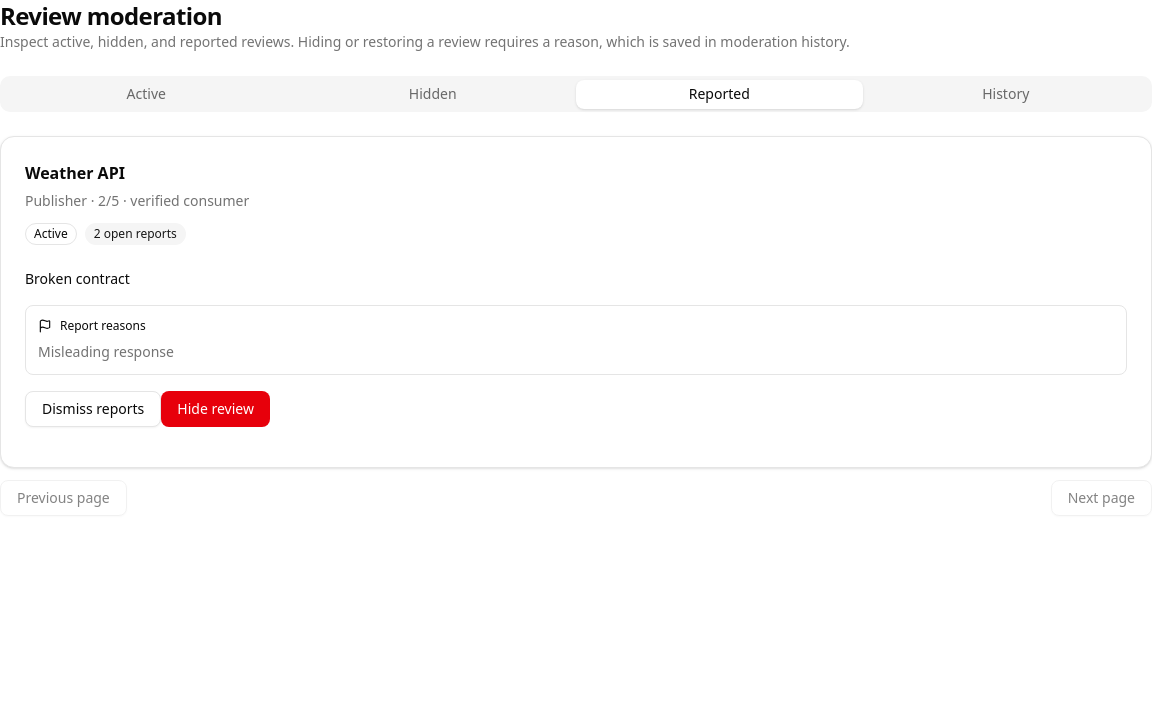
Test: actual moderation route surface › associates and focuses inline moderation failure
Click the button "Hide review" at (216, 409), box [161,391,270,427]
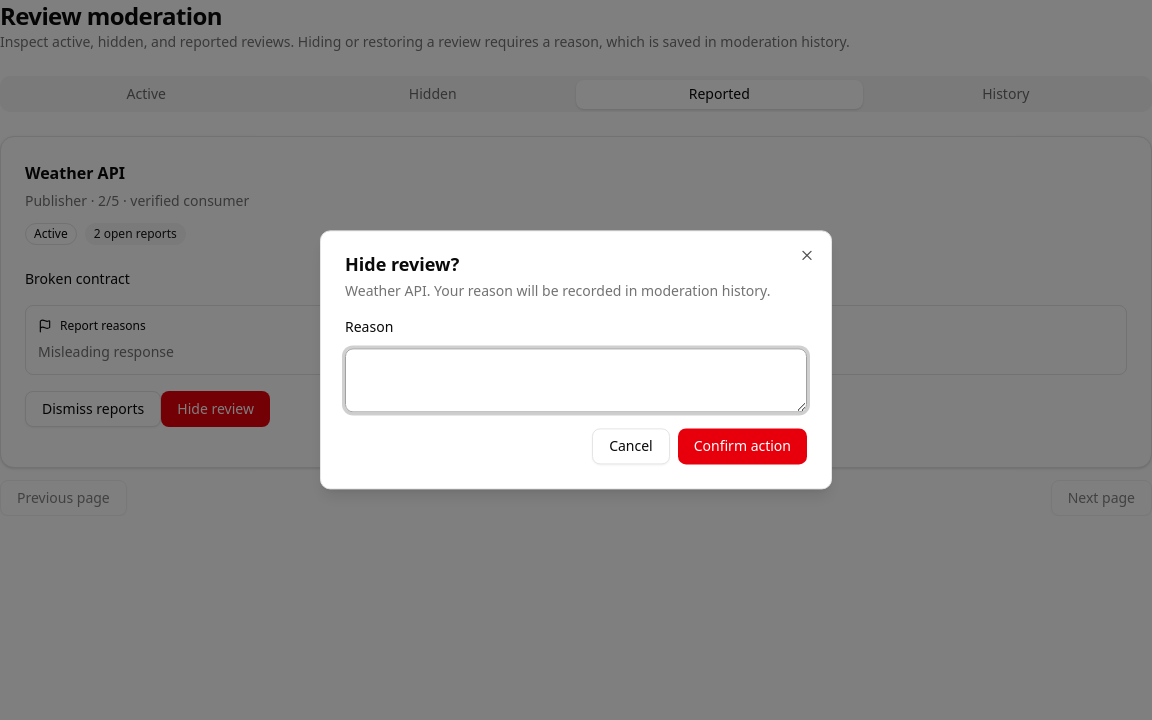
Type "Policy violation" into the text box labelled "Reason" at (576, 381), box [345,349,807,413]
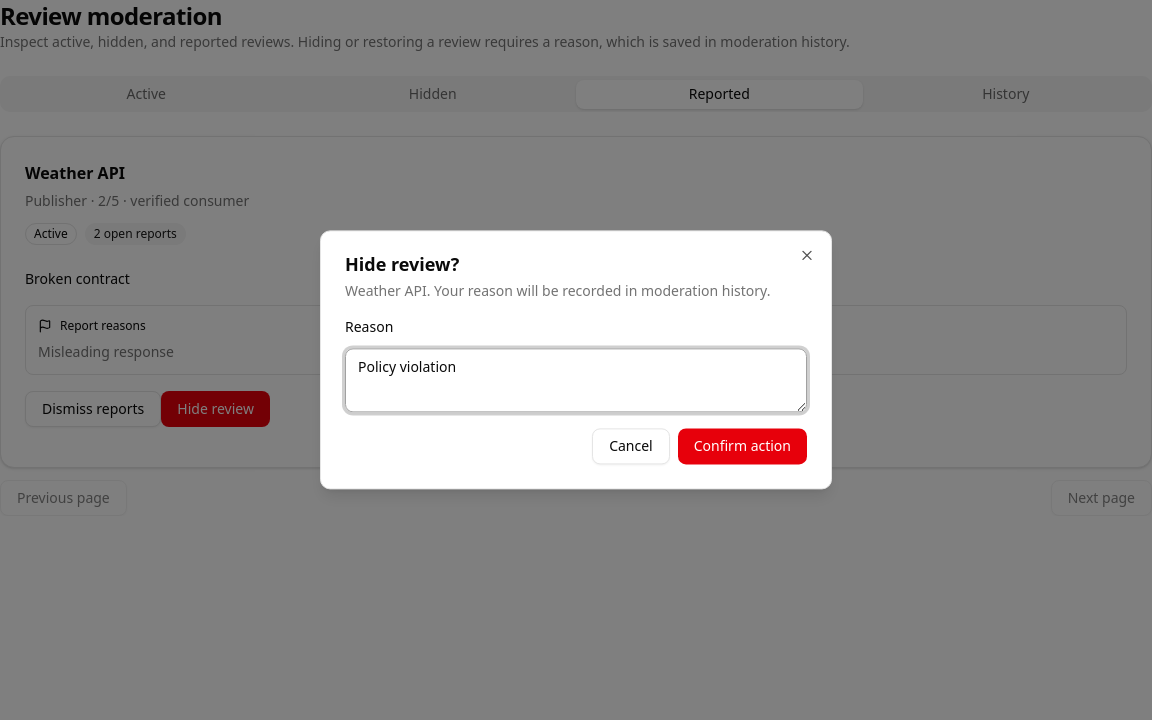
Click the button "Confirm action" at (742, 447), box [678,429,807,465]
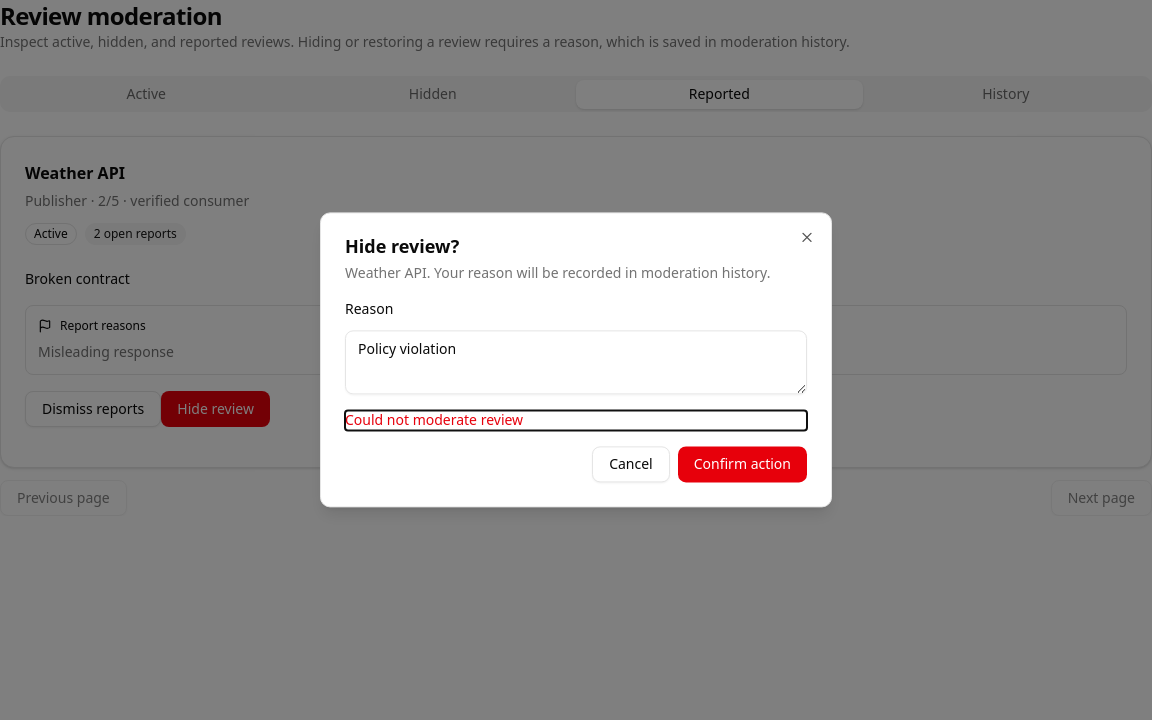
Expected: the message reads "Could not moderate review", [345,411,523,430]
